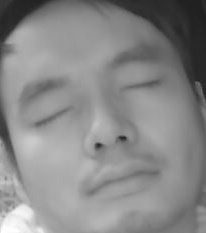blink: (121, 78, 159, 100), (33, 106, 70, 127)
mouth: (87, 157, 164, 200)
